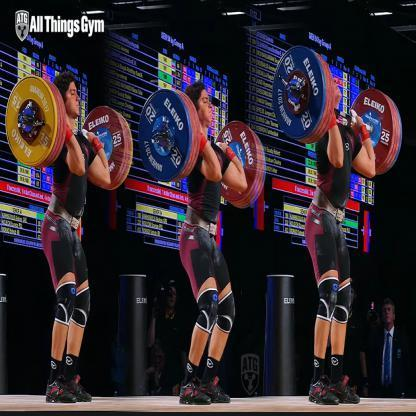barbell: (272, 46, 403, 176), (138, 87, 267, 209), (5, 74, 134, 193)
